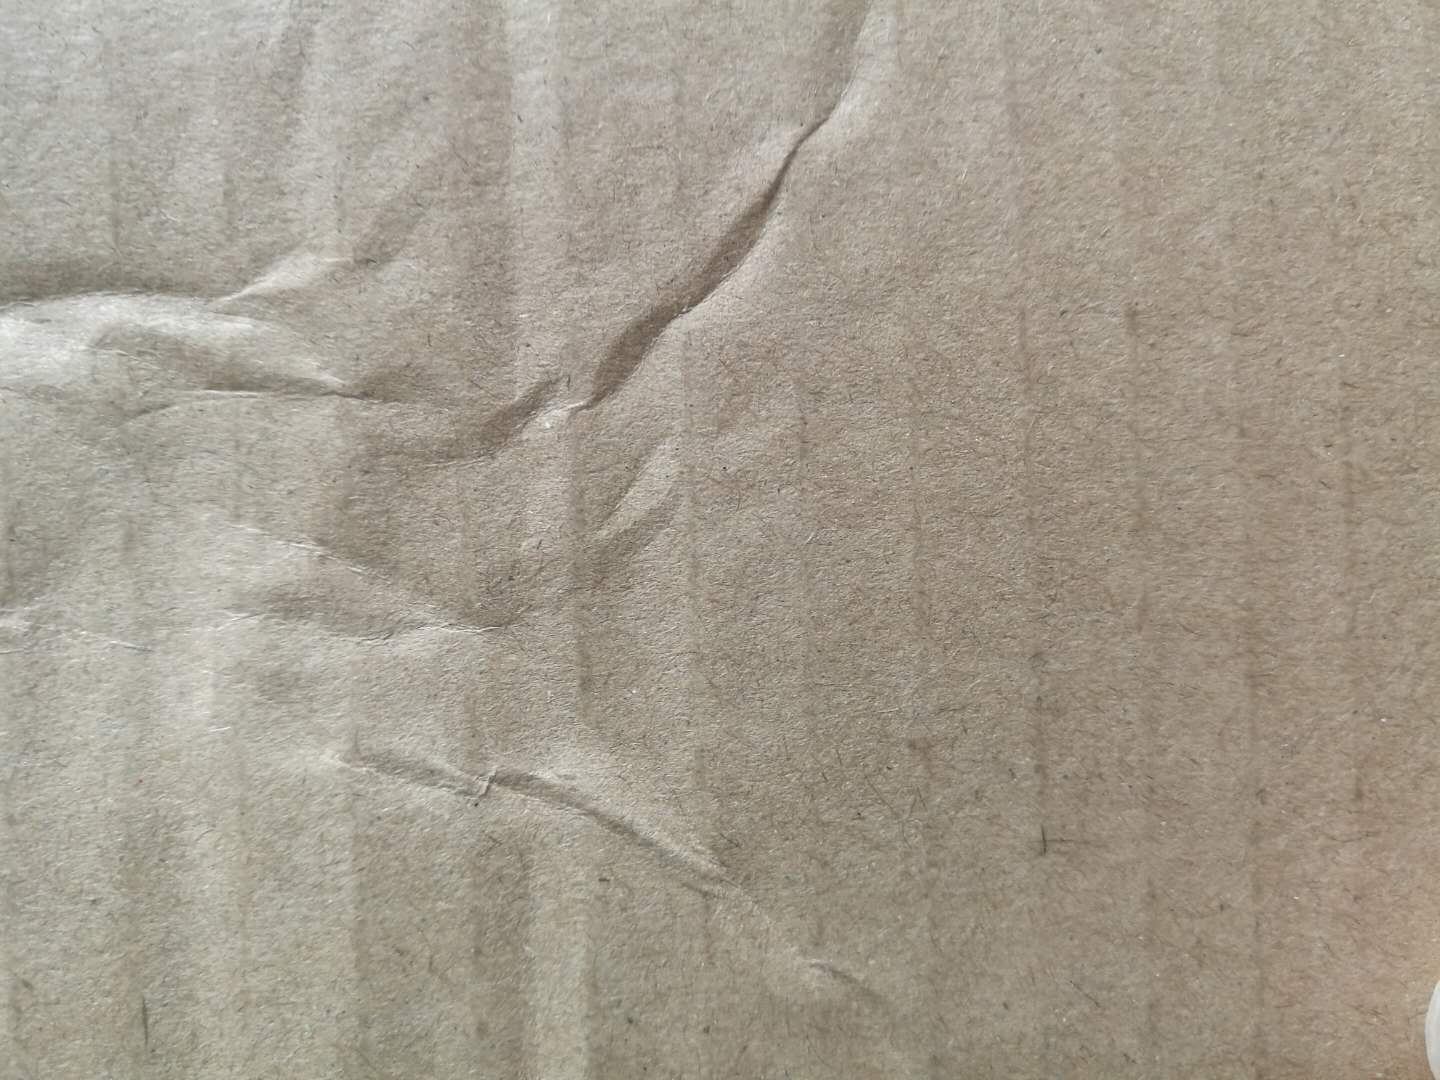defect: (5, 5, 1032, 1078)
